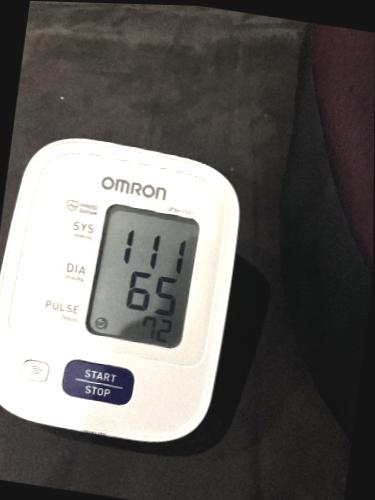bpm: (82, 201, 205, 350)
